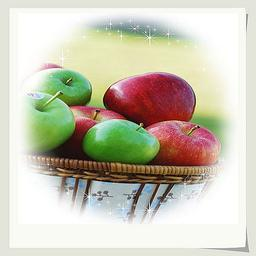apple: (102, 72, 196, 123), (82, 119, 159, 163), (145, 120, 220, 165), (22, 91, 77, 151), (25, 67, 91, 107), (68, 103, 127, 140)
